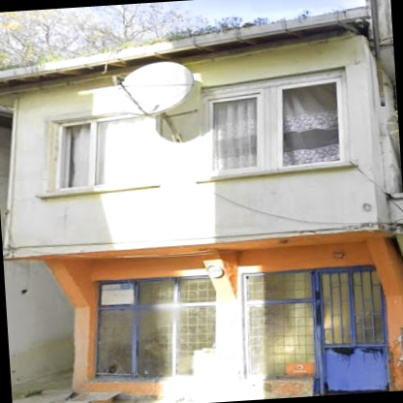door: (315, 267, 390, 395)
